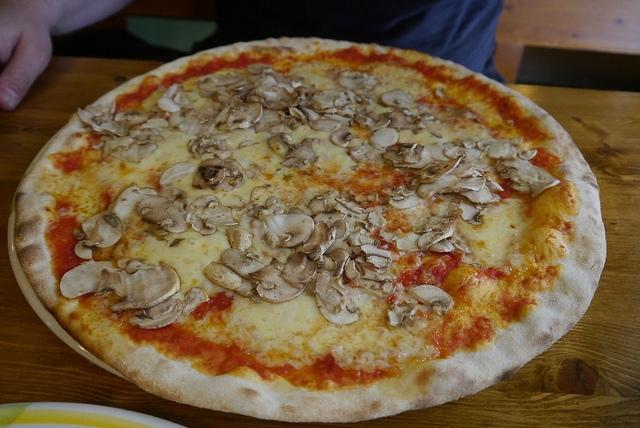mushroom: (94, 258, 182, 312), (130, 287, 210, 329), (316, 272, 360, 326), (187, 194, 240, 236), (258, 210, 314, 248), (60, 260, 114, 299), (136, 196, 190, 234), (250, 265, 304, 303), (508, 164, 561, 198), (81, 210, 125, 248), (110, 184, 158, 218), (247, 85, 310, 110), (407, 284, 454, 316), (168, 106, 215, 138), (302, 220, 336, 264), (221, 248, 265, 279), (282, 251, 318, 284), (419, 156, 462, 183), (203, 261, 243, 290), (280, 138, 318, 168), (192, 158, 227, 188), (78, 107, 118, 132), (438, 174, 487, 194), (418, 174, 460, 197), (109, 142, 157, 162), (188, 135, 226, 160), (418, 226, 453, 252), (334, 196, 370, 220), (378, 88, 421, 108), (338, 69, 378, 90), (267, 132, 295, 162), (158, 162, 196, 184), (342, 228, 382, 248), (94, 119, 132, 140), (308, 89, 346, 110), (226, 224, 254, 252), (198, 72, 244, 89), (362, 244, 392, 270), (388, 300, 418, 326), (252, 107, 282, 132), (460, 200, 488, 226), (444, 146, 483, 164), (380, 108, 410, 131), (369, 127, 398, 150), (424, 142, 456, 162), (159, 188, 187, 210), (329, 128, 359, 148), (457, 188, 494, 204), (393, 231, 421, 252), (487, 143, 517, 161), (313, 208, 346, 224), (226, 111, 256, 128), (346, 148, 374, 166), (205, 144, 233, 162), (130, 118, 168, 131), (356, 88, 376, 112), (250, 219, 270, 243), (114, 110, 148, 124), (388, 195, 419, 210), (323, 238, 352, 254), (308, 118, 341, 132), (403, 144, 425, 164), (129, 127, 160, 140), (236, 277, 256, 297), (334, 94, 359, 110), (332, 220, 351, 241), (321, 190, 340, 211), (312, 254, 336, 270), (74, 239, 93, 259), (308, 196, 328, 215), (230, 86, 260, 98), (249, 186, 267, 206), (369, 116, 391, 132), (157, 97, 180, 112), (428, 239, 454, 252), (247, 62, 272, 75), (379, 229, 402, 243), (393, 107, 413, 123), (382, 150, 404, 164), (364, 140, 386, 154), (368, 211, 387, 227), (300, 106, 320, 121), (162, 83, 182, 98), (477, 138, 498, 152), (172, 92, 192, 106), (345, 260, 359, 280), (458, 136, 478, 149), (205, 102, 225, 115), (259, 74, 278, 86), (276, 82, 296, 93), (200, 90, 220, 101), (358, 116, 378, 126), (485, 182, 504, 192), (343, 89, 355, 98), (253, 204, 266, 211)
